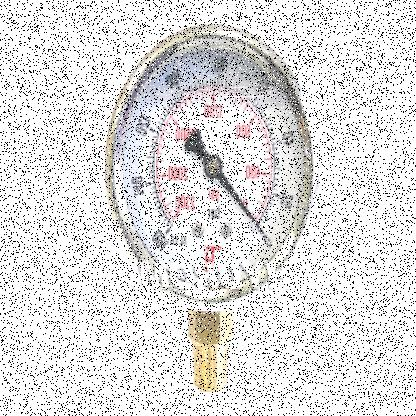needle: (215, 171, 261, 230)
